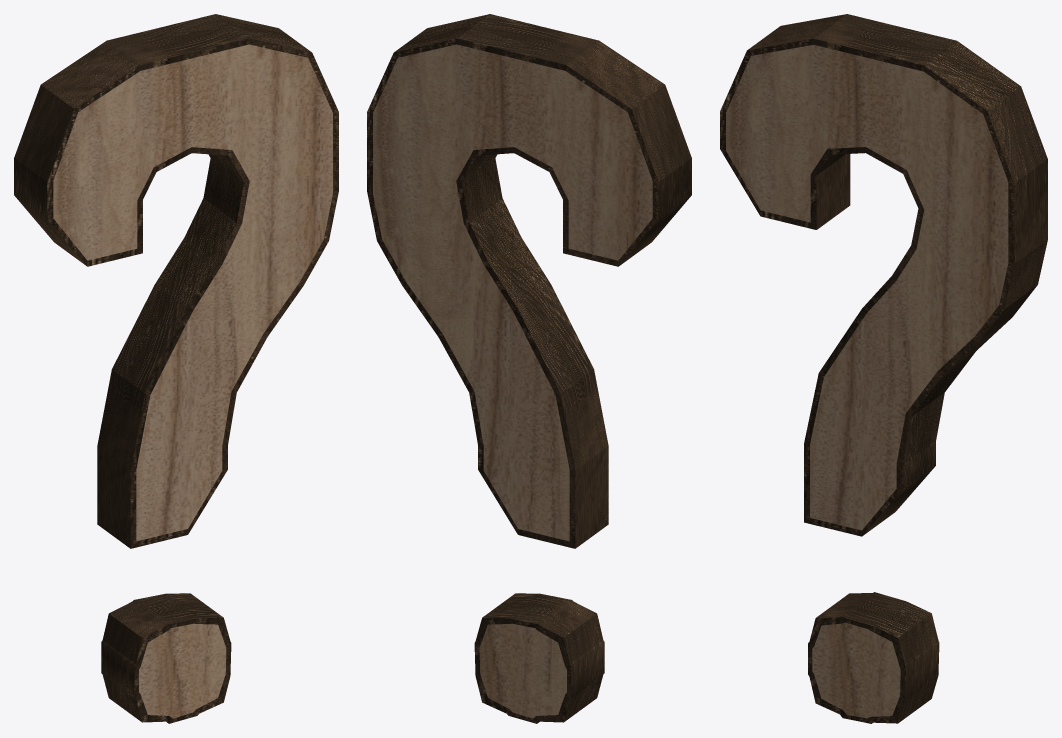
File: Question.FBX
3 renders of one model, left to right at view 1: azimuth 30°, elevation 25°; view 2: azimuth 150°, elevation 25°; view 3: azimuth 330°, elevation 25°, orthographic.
Parts seen in each view (by area): view 1: Question, Question_outline; view 2: Question, Question_outline; view 3: Question, Question_outline.
Boxes of the visible parts, <box> form: Question: <box>53,44,332,718</box>; Question_outline: <box>14,14,338,723</box>; Question: <box>373,44,652,718</box>; Question_outline: <box>367,14,691,723</box>; Question: <box>726,44,1008,718</box>; Question_outline: <box>720,14,1047,723</box>.
Bounding box in the file's own units: 50.42 × 110 × 10.
Materials: 2 (2 with a texture image).
